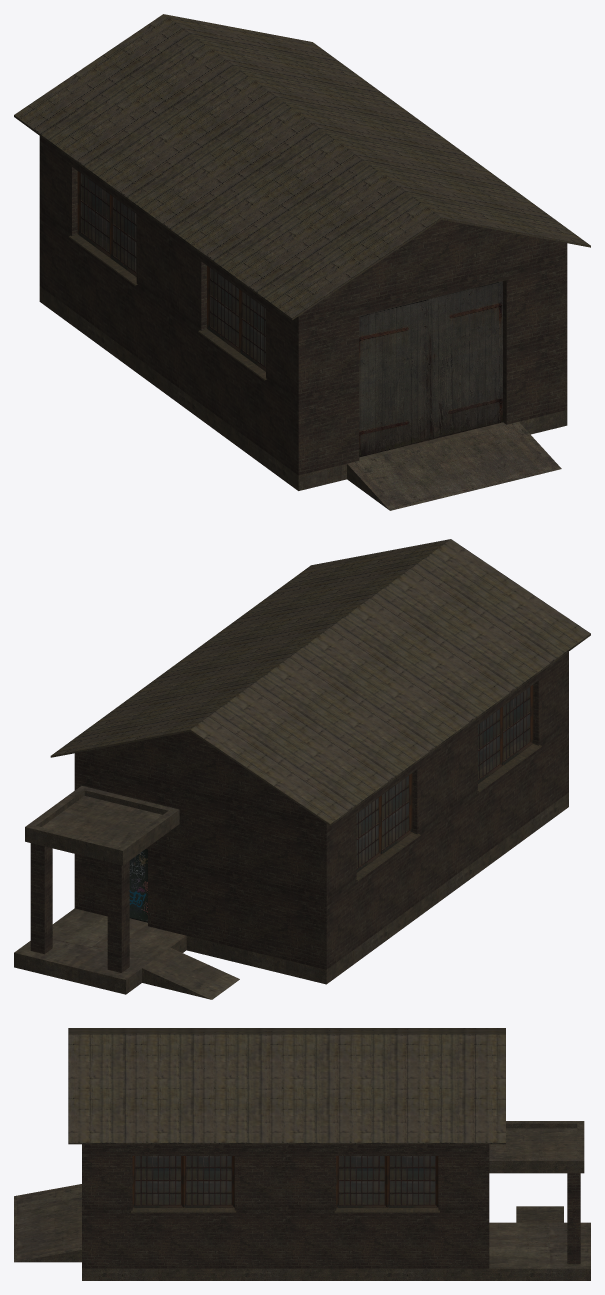
The model's file is warehouse_mx_2.dae.
3 renders of one model, top to bottom at view 1: azimuth 30°, elevation 25°; view 2: azimuth 150°, elevation 25°; view 3: azimuth 270°, elevation 25°, orthographic. The views are drawn at different scales.
Visible parts, largest first — view 1: warehouse_mx_2, garage_door_hr_3_piece_2, garage_door_hr_3_piece_1; view 2: warehouse_mx_2, door_hr_9; view 3: warehouse_mx_2.
Boxes of the visible parts, left/top/right/bottom form: warehouse_mx_2: left=14, top=14, right=590, bottom=510; garage_door_hr_3_piece_2: left=429, top=281, right=502, bottom=439; garage_door_hr_3_piece_1: left=359, top=299, right=429, bottom=457; warehouse_mx_2: left=14, top=539, right=590, bottom=999; door_hr_9: left=129, top=849, right=147, bottom=922; warehouse_mx_2: left=14, top=1028, right=590, bottom=1280.
Size of the model in its own units: 8 by 17 by 6.32.
Materials: 10 (10 with a texture image).
